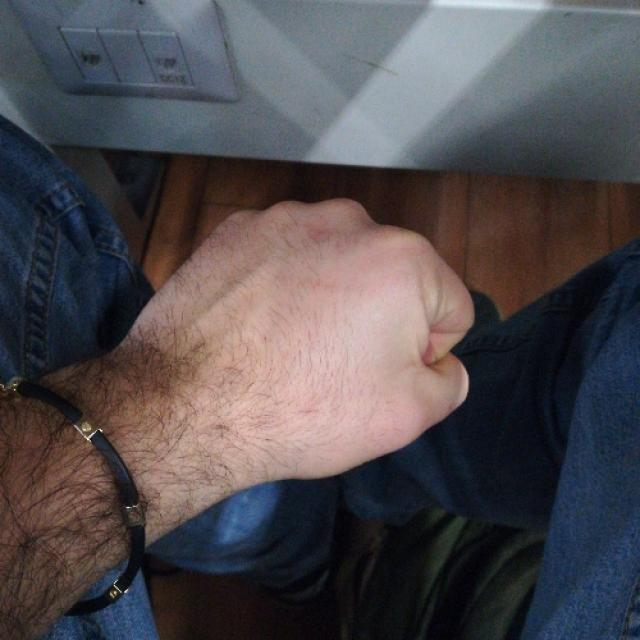rock: (141, 196, 476, 479)
